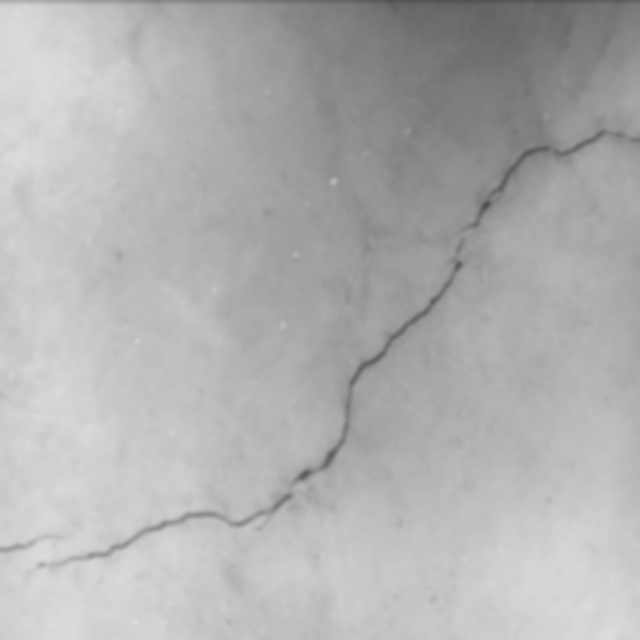SurfaceCrack: (2, 62, 640, 586)
